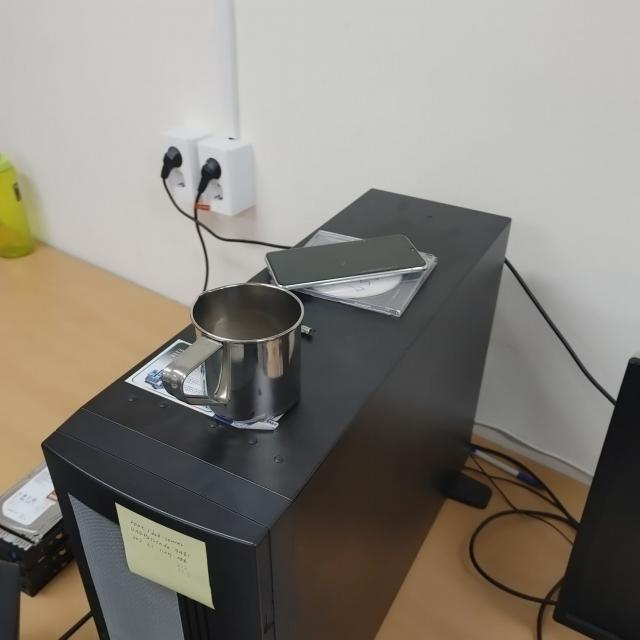cup: (163, 282, 303, 422)
phone: (266, 232, 430, 291)
